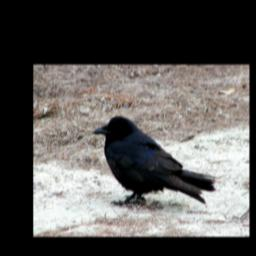Crow: (93, 115, 218, 207)
